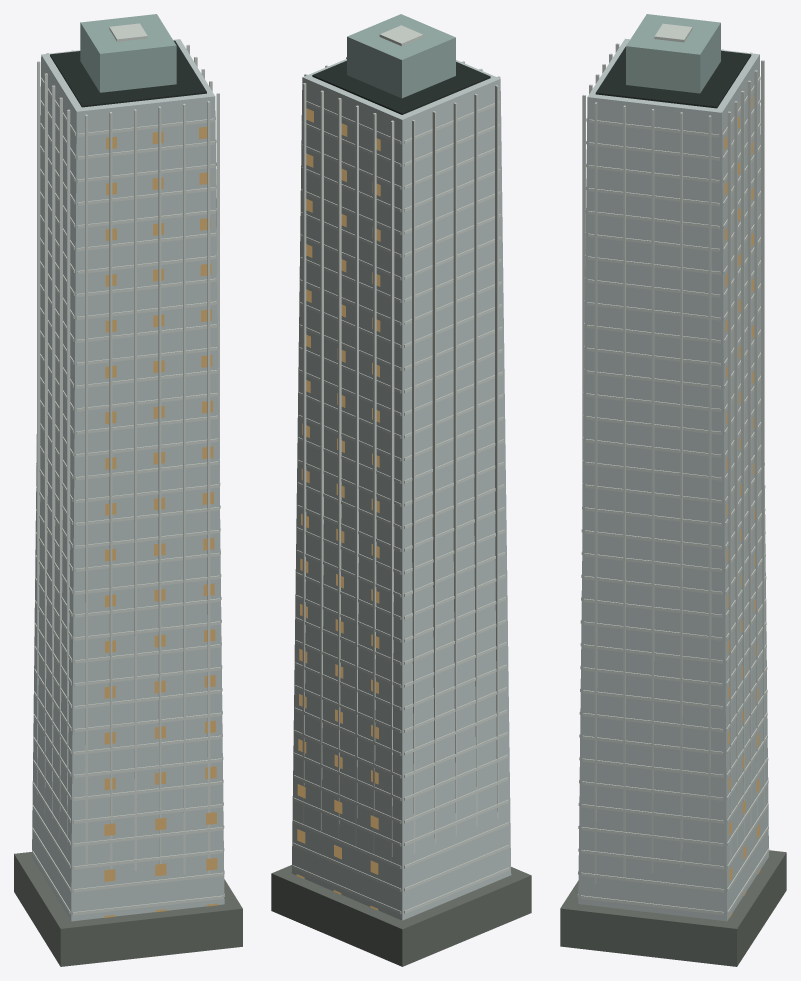
The model's file is capital-plaza.glb.
The picture shows the model from 3 angles, left to right: view 1: azimuth 30°, elevation 25°; view 2: azimuth 150°, elevation 25°; view 3: azimuth 270°, elevation 25°; orthographic projection.
Parts seen in each view (by area): view 1: envelope, fins, floor_bands, podium, night_windows, crown_diamond, roof_deck, crown_diamond.001; view 2: envelope, fins, floor_bands, podium, crown_diamond, night_windows, roof_deck; view 3: envelope, fins, floor_bands, podium, crown_diamond, roof_deck, night_windows, crown_diamond.001.
Part boxes in pixels (x1,y1,x2,y2): envelope: [32, 39, 224, 921]; fins: [37, 44, 219, 874]; floor_bands: [32, 77, 224, 915]; podium: [14, 852, 242, 966]; night_windows: [104, 126, 217, 917]; crown_diamond: [80, 14, 176, 92]; roof_deck: [50, 40, 206, 107]; crown_diamond.001: [109, 23, 147, 41]; envelope: [291, 59, 511, 920]; fins: [302, 57, 500, 861]; floor_bands: [292, 100, 509, 914]; podium: [271, 865, 531, 966]; crown_diamond: [347, 14, 455, 98]; night_windows: [296, 108, 380, 910]; roof_deck: [312, 60, 490, 114]; envelope: [578, 38, 768, 921]; fins: [582, 43, 764, 884]; floor_bands: [577, 77, 769, 915]; podium: [560, 850, 786, 966]; crown_diamond: [626, 14, 720, 93]; roof_deck: [595, 46, 751, 108]; night_windows: [724, 96, 760, 917]; crown_diamond.001: [654, 23, 692, 42].
Size of the model in its own units: 64.43 by 274 by 63.48.
